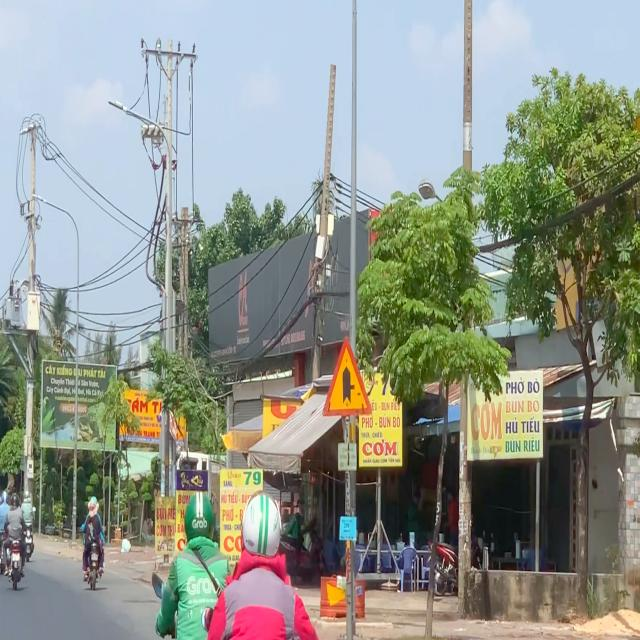Giao voi duong khong uu tien: (320, 332, 374, 418)
